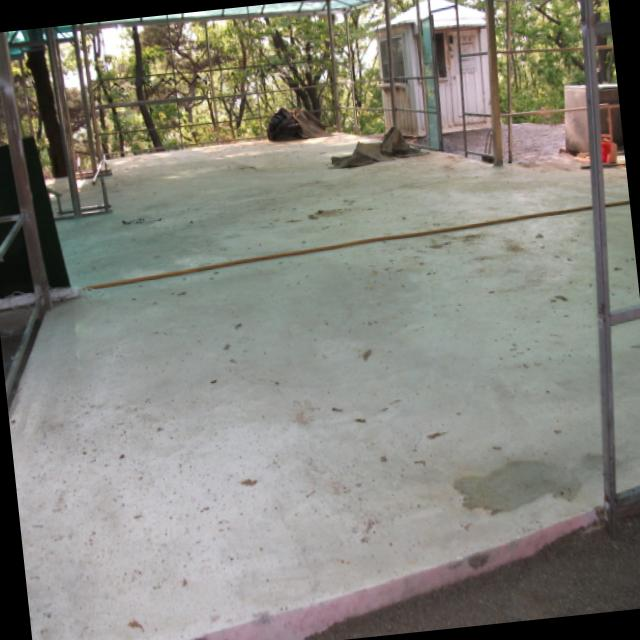cement: (8, 134, 602, 640), (610, 319, 640, 487), (606, 204, 640, 312), (604, 168, 629, 201)
